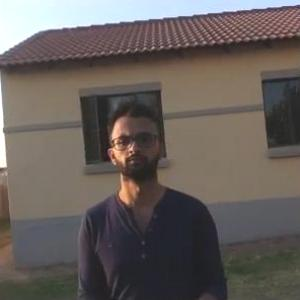follow: (70, 95, 230, 299)
